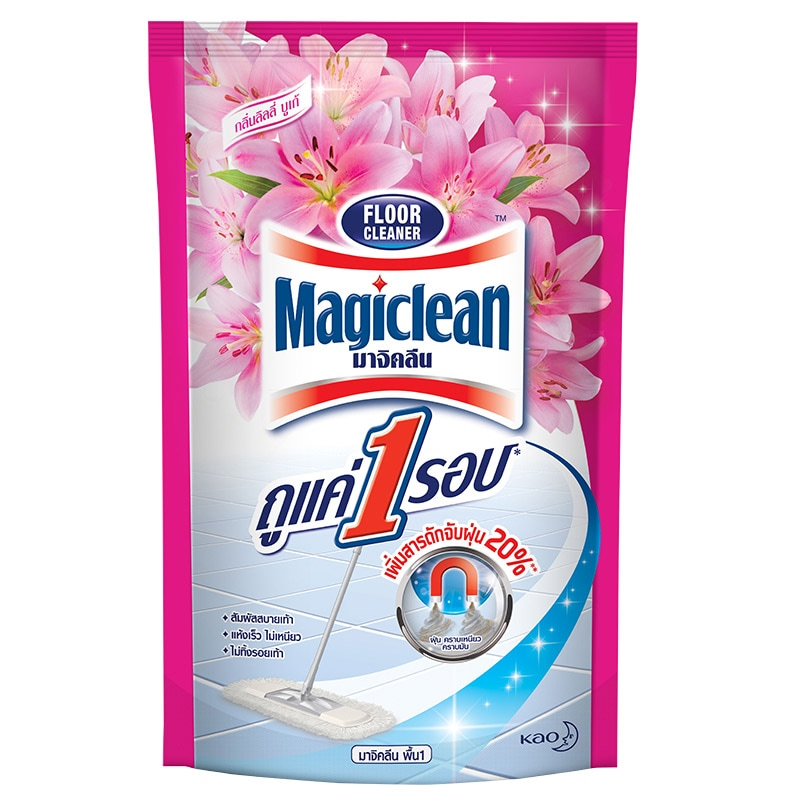Cleaning_solution: (138, 12, 648, 794)
